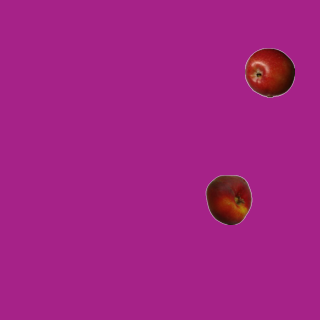Apple Braeburn: (244, 47, 294, 97)
Nectarine Flat: (203, 174, 253, 224)
